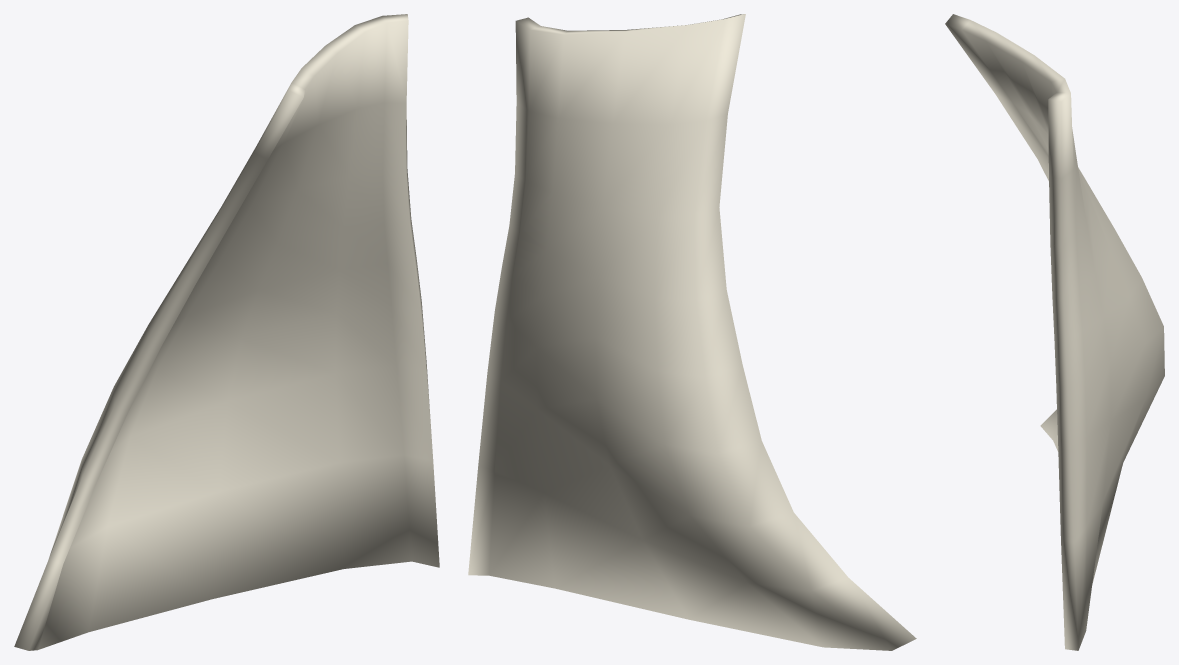
3 views of the same model, side by side, from view 1: azimuth 30°, elevation 25°; view 2: azimuth 150°, elevation 25°; view 3: azimuth 270°, elevation 25° (orthographic). The views are drawn at different scales.
Parts seen in each view (by area): view 1: ZA_decb6bc3cee5cce7; view 2: ZA_decb6bc3cee5cce7; view 3: ZA_decb6bc3cee5cce7.
Boxes of the visible parts, <box> form: ZA_decb6bc3cee5cce7: <box>14,14,439,650</box>; ZA_decb6bc3cee5cce7: <box>468,14,916,650</box>; ZA_decb6bc3cee5cce7: <box>945,14,1164,650</box>.
Size of the model in its own units: 0.0164 by 0.0204 by 0.00755.
